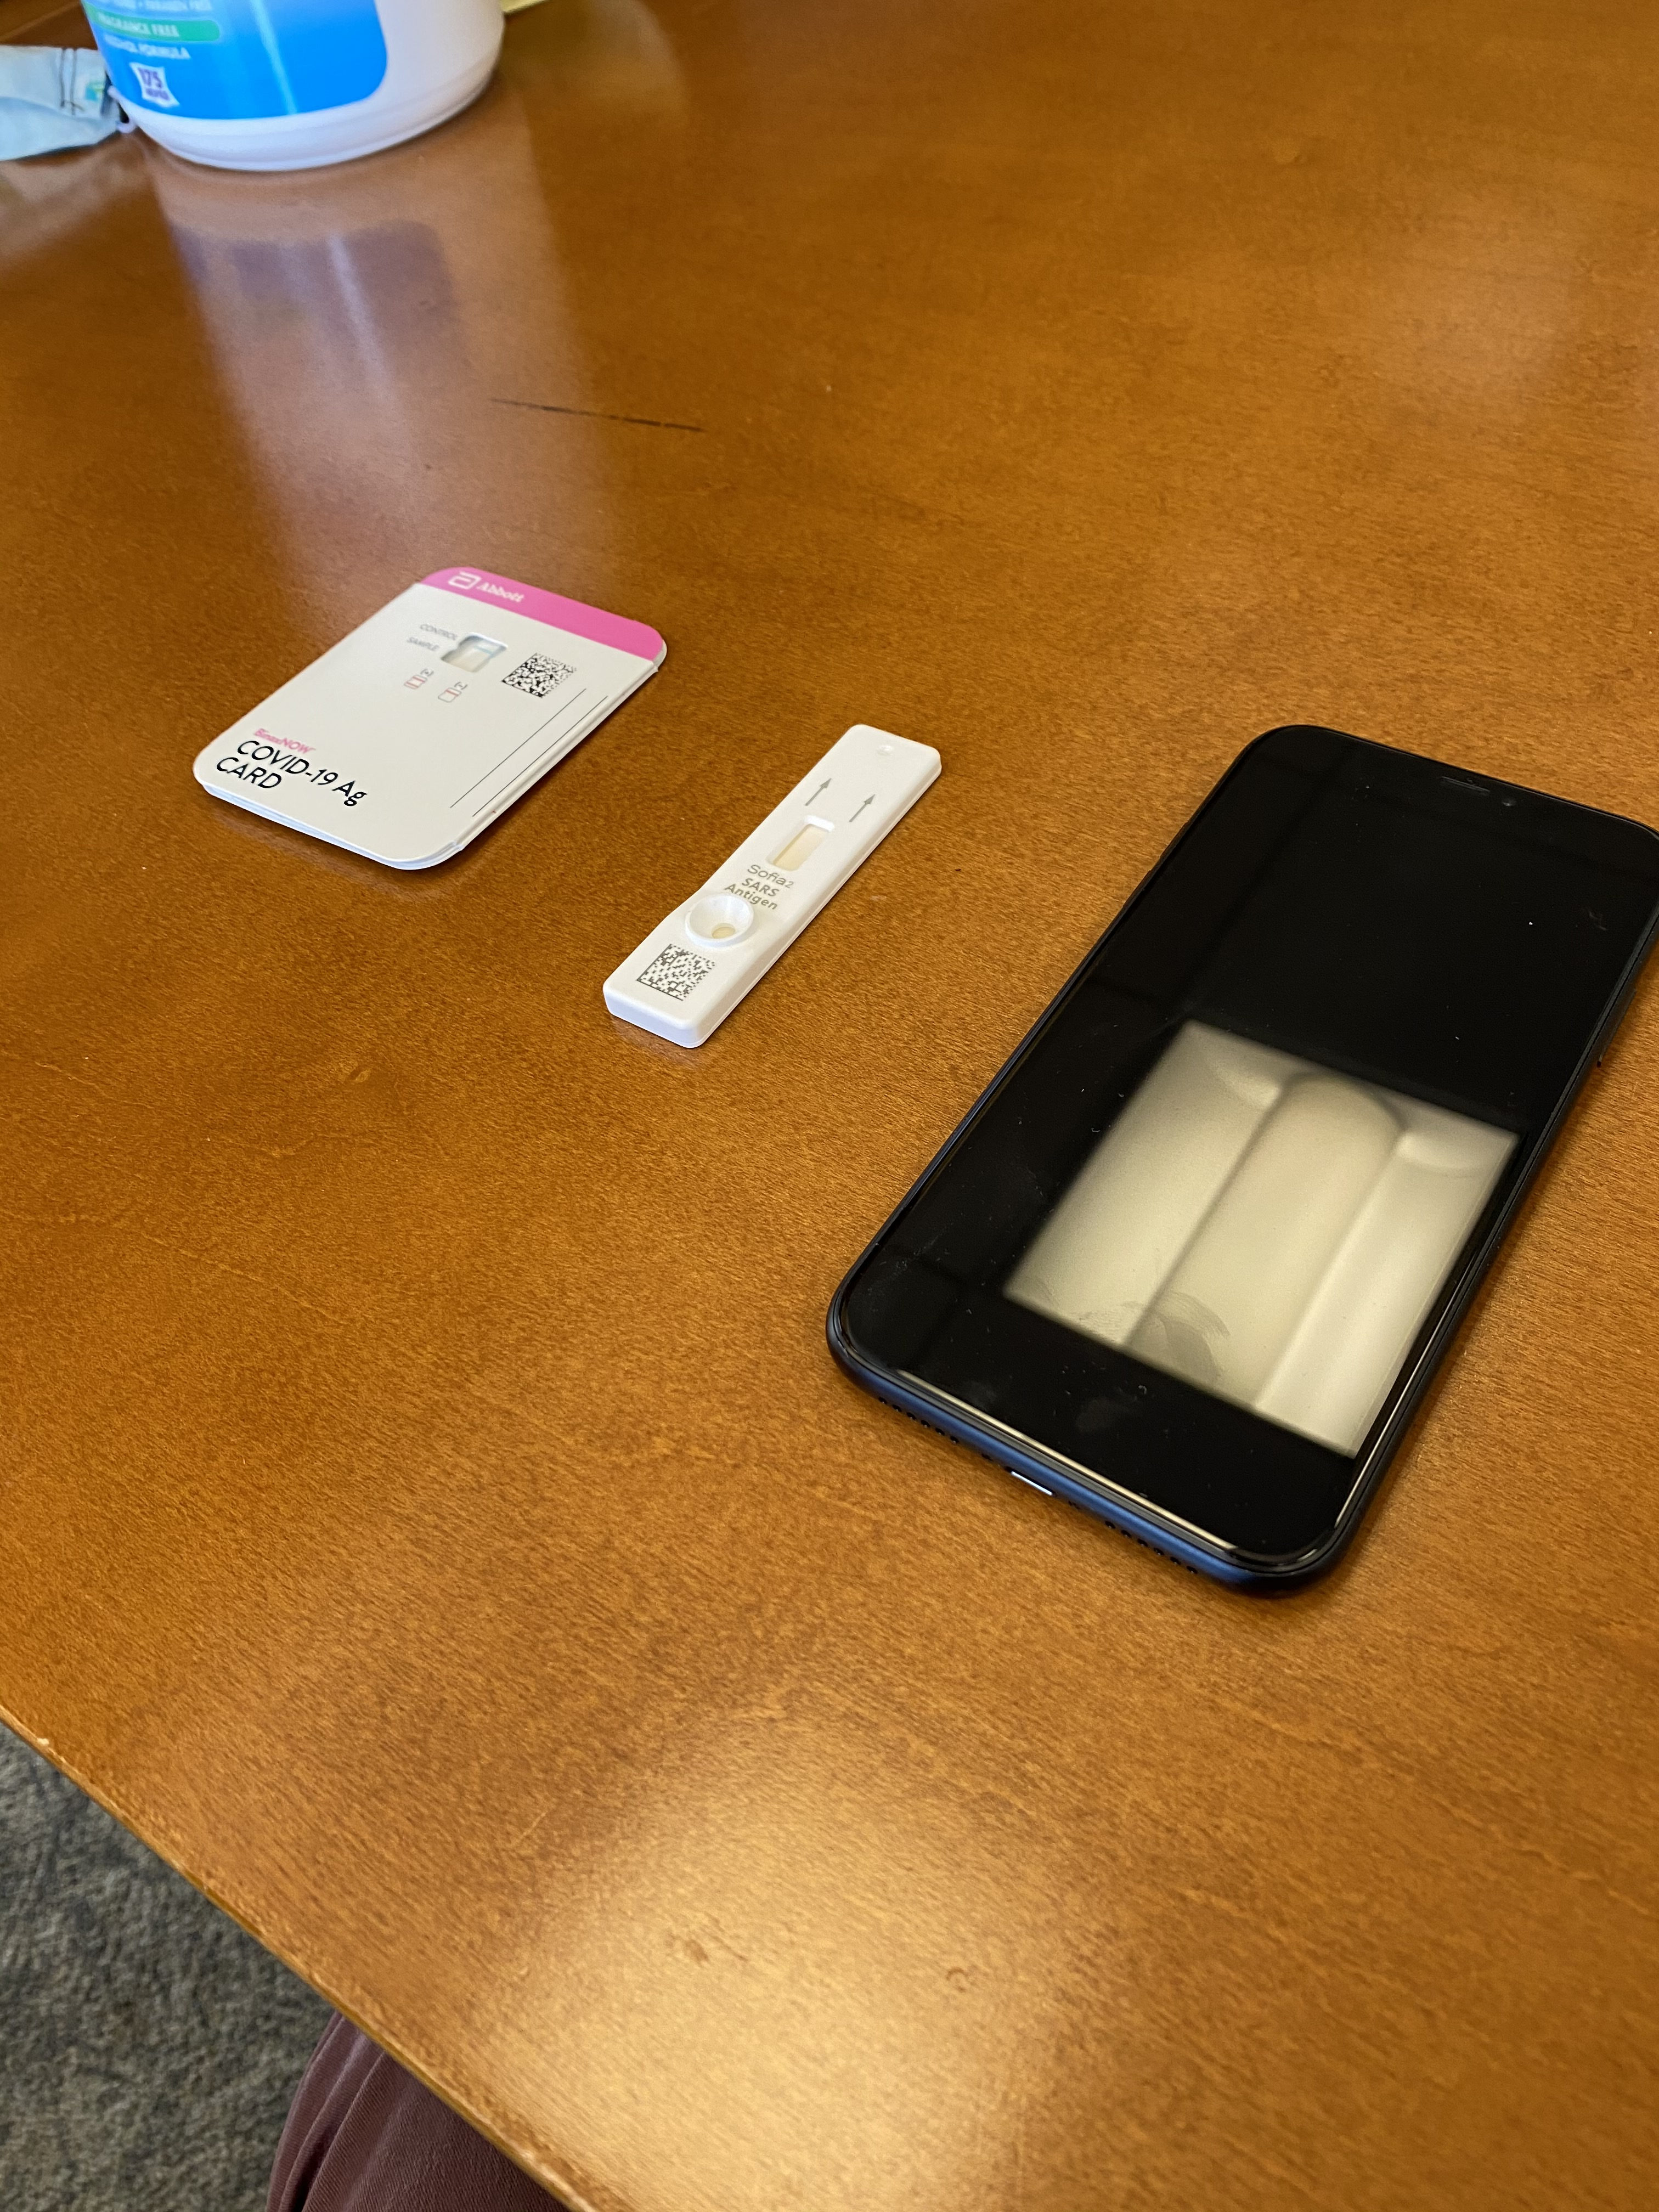binax: (186, 554, 676, 885)
quidel: (599, 718, 971, 1061)
